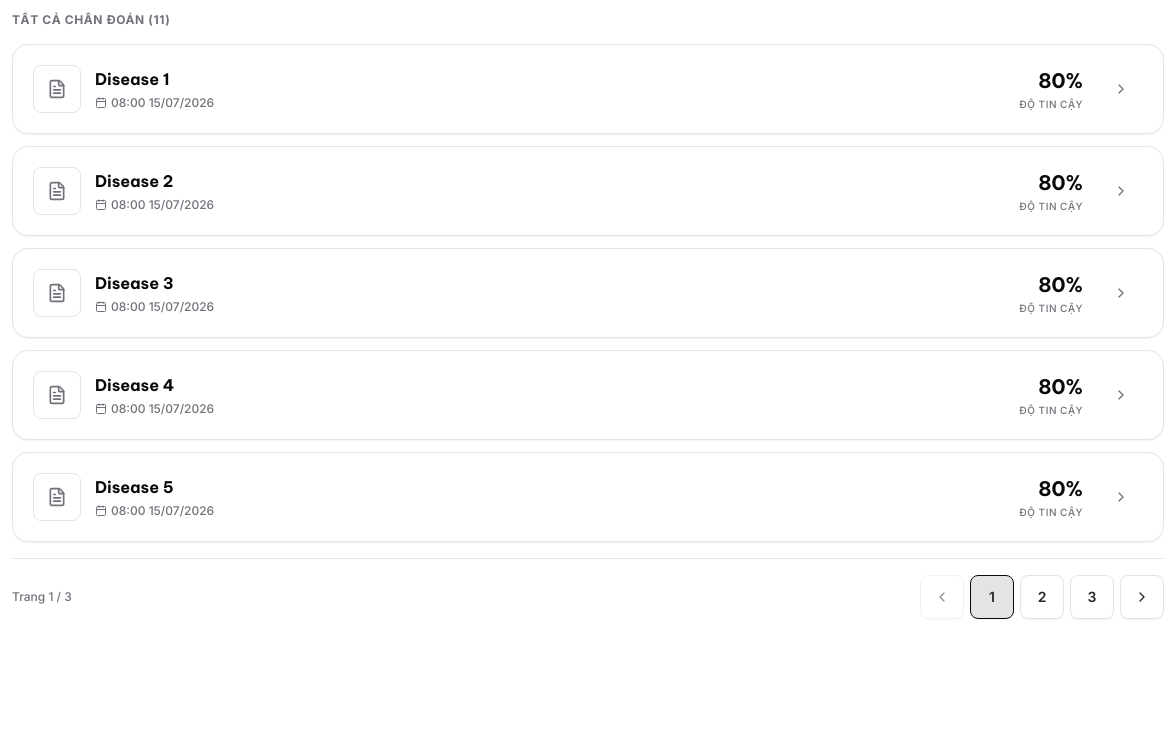
it: HistoryList pagination › navigates deterministically across three pages for eleven records in Vietnamese by default
Expected: the heading "Disease 1" is shown, [95, 69, 170, 89]
Expected: the text "Trang 1 / 3" is shown, [12, 589, 72, 605]
Step 1. Click the button named "Trang 2" → point(1042, 597), box [1020, 575, 1064, 619]
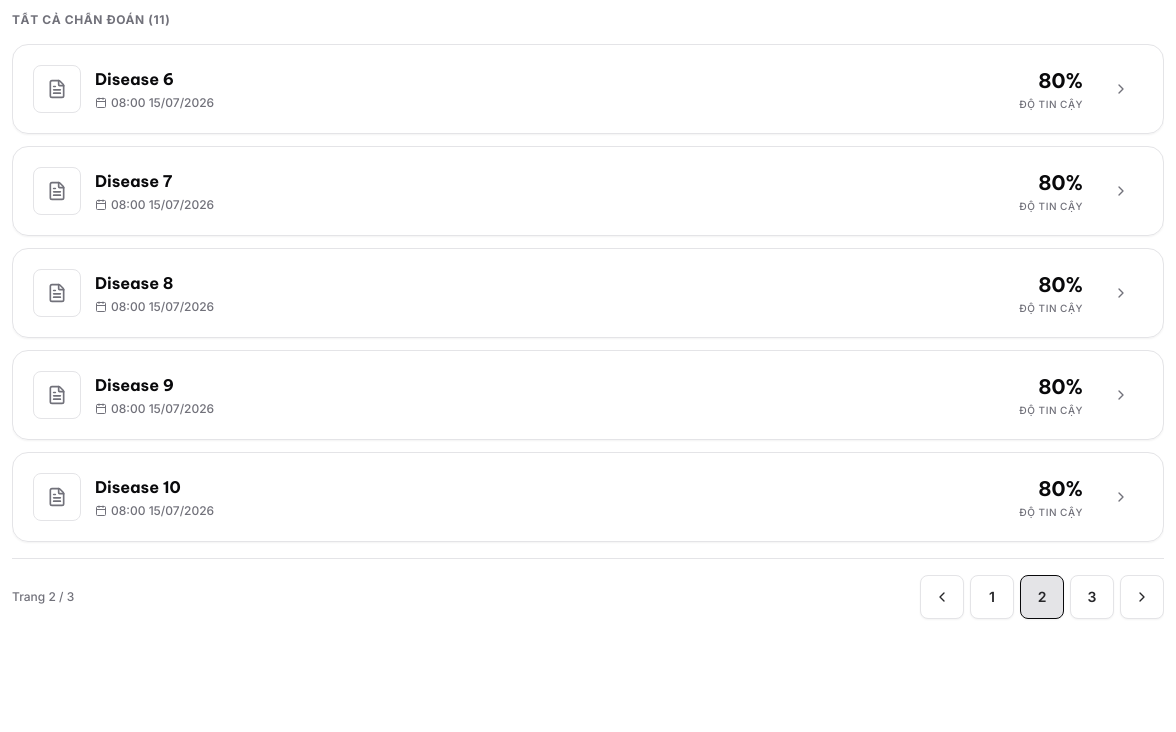
Expected: the heading "Disease 6" is shown, [95, 69, 174, 89]
Expected: the text "Trang 2 / 3" is shown, [12, 589, 74, 605]
Step 2. Click the button named "Trang sau" → point(1142, 597), box [1120, 575, 1164, 619]
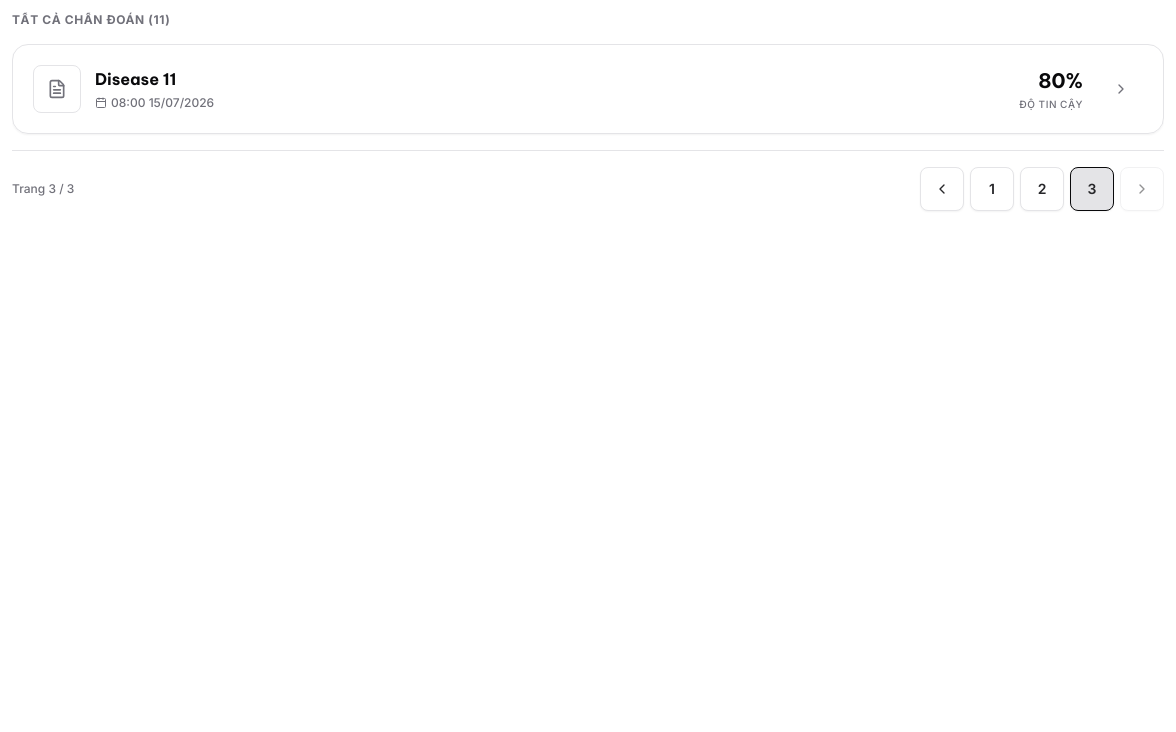
Expected: the heading "Disease 11" is shown, [95, 69, 176, 89]
Expected: the text "Trang 3 / 3" is shown, [12, 181, 74, 197]
Expected: the button named "Trang sau" is disabled, [1120, 167, 1164, 211]
